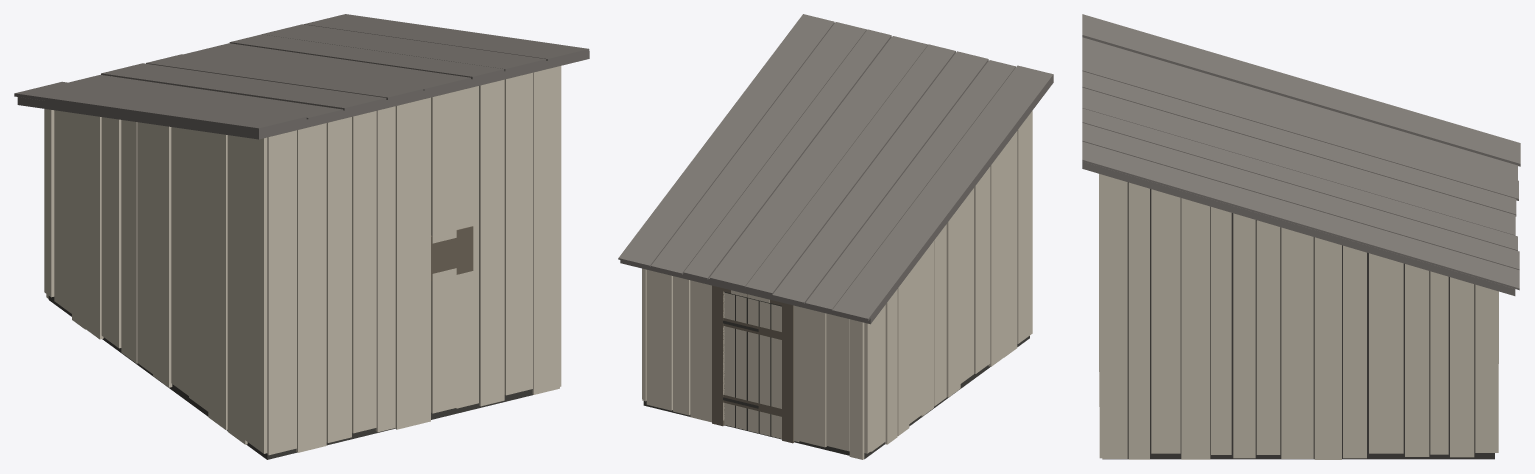
File: recon_1835_blk_south_water_dearborn_a5_10__inferred_1835.glb
3 renders of one model, left to right at view 1: azimuth 30°, elevation 25°; view 2: azimuth 150°, elevation 25°; view 3: azimuth 270°, elevation 25°, orthographic. The views are drawn at different scales.
Visible parts, largest first — view 1: recon_1835_blk_south_water_dearborn_a5_10__inferred_1835; view 2: recon_1835_blk_south_water_dearborn_a5_10__inferred_1835; view 3: recon_1835_blk_south_water_dearborn_a5_10__inferred_1835.
Part boxes in pixels (bbox=[...]): recon_1835_blk_south_water_dearborn_a5_10__inferred_1835: bbox=[14, 14, 589, 459]; recon_1835_blk_south_water_dearborn_a5_10__inferred_1835: bbox=[618, 14, 1053, 459]; recon_1835_blk_south_water_dearborn_a5_10__inferred_1835: bbox=[1082, 14, 1520, 459].
Size of the model in its own units: 3.65 by 3.64 by 4.68.
